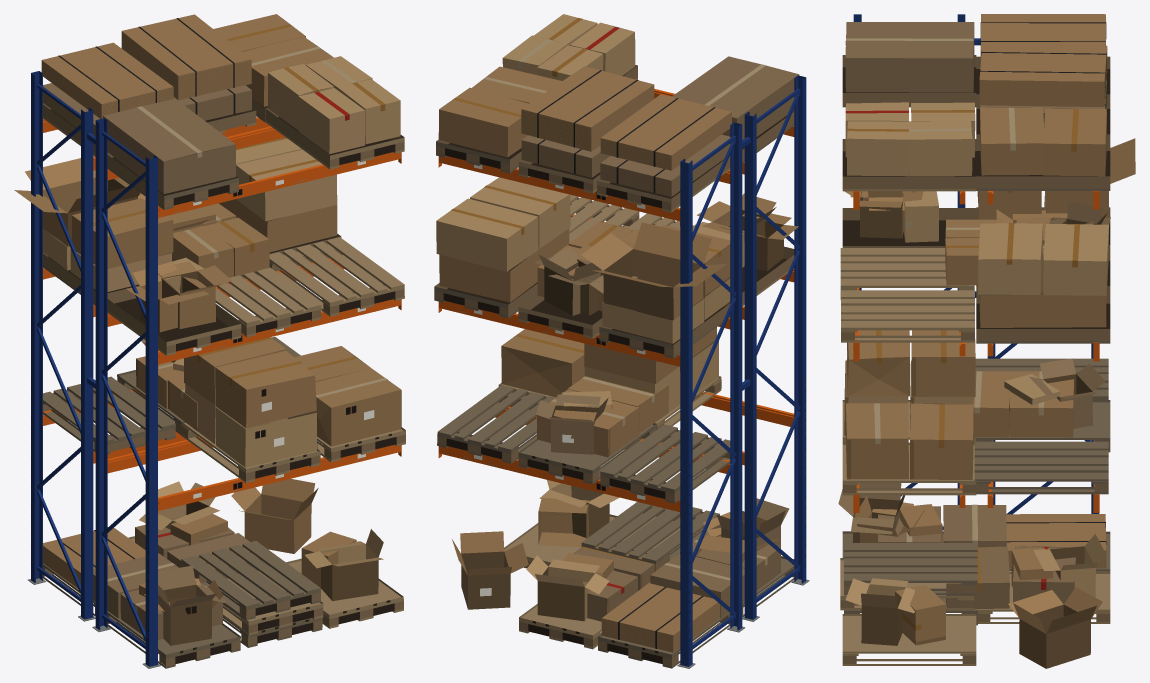
The model's file is rack@2.glb.
3 renders of one model, left to right at view 1: azimuth 30°, elevation 25°; view 2: azimuth 150°, elevation 25°; view 3: azimuth 270°, elevation 25°, orthographic. The views are drawn at different scales.
Visible parts, largest first — view 1: rack17, rack0, rack20, rack12, rack19, rack9, rack4, rack10, rack11, rack16, rack18, rack14 (+3 smaller); view 2: rack17, rack0, rack20, rack12, rack9, rack16, rack4, rack10, rack19, rack11, rack14, rack18 (+2 smaller); view 3: rack17, rack20, rack12, rack19, rack9, rack10, rack16, rack11, rack18, rack15, rack4, rack21 (+2 smaller).
Boxes of the visible parts, box(x1,y1,x2,y2) form: rack17: box(14, 14, 401, 611); rack0: box(31, 71, 157, 666); rack20: box(43, 56, 400, 568); rack12: box(43, 83, 269, 645); rack19: box(43, 116, 405, 635); rack9: box(43, 114, 322, 668); rack4: box(43, 117, 401, 515); rack10: box(43, 99, 405, 666); rack11: box(48, 98, 396, 663); rack16: box(67, 179, 378, 645); rack18: box(93, 24, 385, 559); rack14: box(102, 62, 401, 559); rack17: box(438, 66, 798, 652); rack0: box(680, 75, 806, 666); rack20: box(436, 14, 744, 620); rack12: box(521, 56, 799, 621); rack9: box(434, 124, 794, 668); rack16: box(461, 210, 783, 621); rack4: box(438, 89, 794, 516); rack10: box(434, 65, 794, 666); rack19: box(498, 77, 794, 649); rack11: box(443, 74, 787, 663); rack14: box(522, 112, 672, 651); rack18: box(451, 18, 720, 570); rack17: box(844, 14, 1135, 668); rack20: box(844, 102, 1108, 613); rack12: box(838, 22, 1110, 608); rack19: box(840, 189, 1110, 665); rack9: box(842, 105, 1110, 625); rack10: box(840, 55, 1110, 663); rack16: box(852, 191, 1095, 668); rack11: box(842, 67, 1110, 328); rack18: box(847, 109, 1080, 630); rack15: box(845, 38, 1044, 545); rack4: box(853, 191, 1099, 512); rack21: box(980, 22, 1106, 544).
Bounding box in the file's own units: 2.94 × 5.37 × 2.66.
